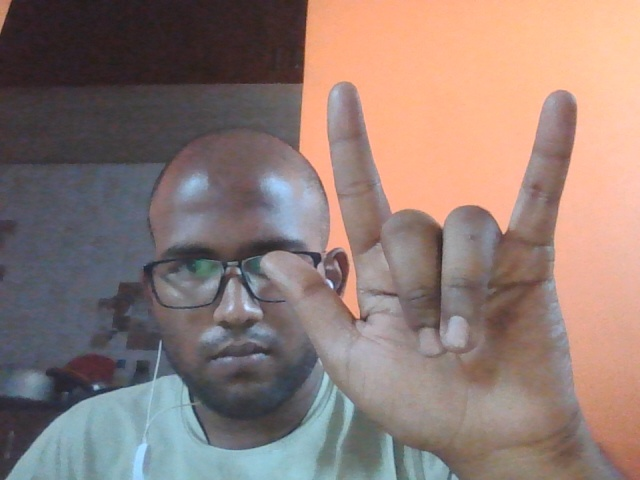iloveyou: (245, 45, 618, 480)
